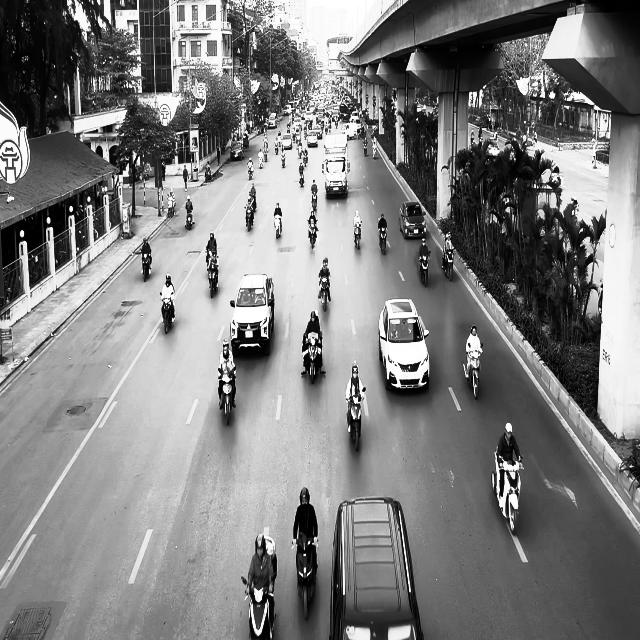car: (329, 496, 424, 639), (378, 298, 430, 391), (230, 273, 274, 356), (399, 201, 426, 239), (230, 140, 244, 160), (282, 132, 292, 148)
motorbike: (491, 450, 524, 534), (291, 534, 318, 620), (241, 575, 276, 639), (301, 331, 324, 384), (346, 388, 365, 451), (463, 342, 483, 399), (218, 368, 236, 425), (159, 291, 175, 334), (207, 261, 218, 298), (319, 275, 330, 311), (442, 249, 454, 281), (419, 252, 430, 286), (307, 217, 318, 249), (141, 252, 151, 282), (244, 205, 254, 231), (353, 222, 362, 250), (378, 227, 387, 254), (185, 207, 194, 230), (274, 213, 282, 238), (168, 196, 175, 217), (298, 168, 304, 187), (280, 148, 286, 167), (311, 190, 317, 209), (205, 167, 212, 182), (363, 139, 368, 156), (248, 164, 253, 180)
truck: (322, 133, 349, 198)
